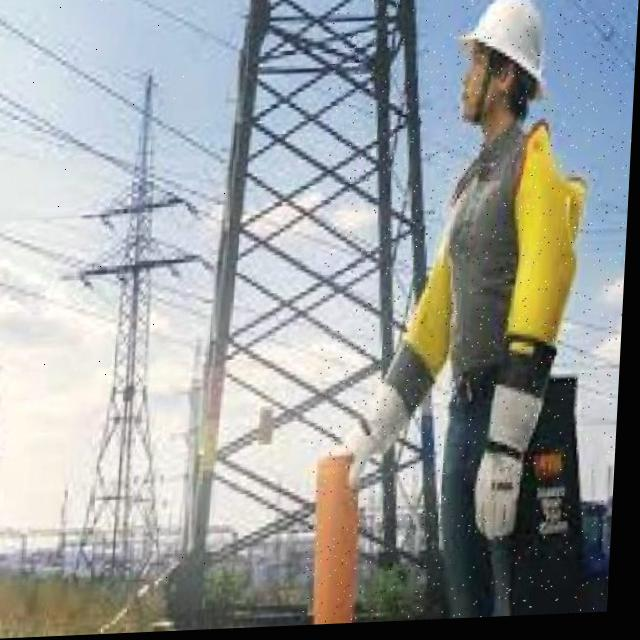Helmet: (456, 0, 552, 95)
Safety-Vest: (401, 121, 592, 389)
